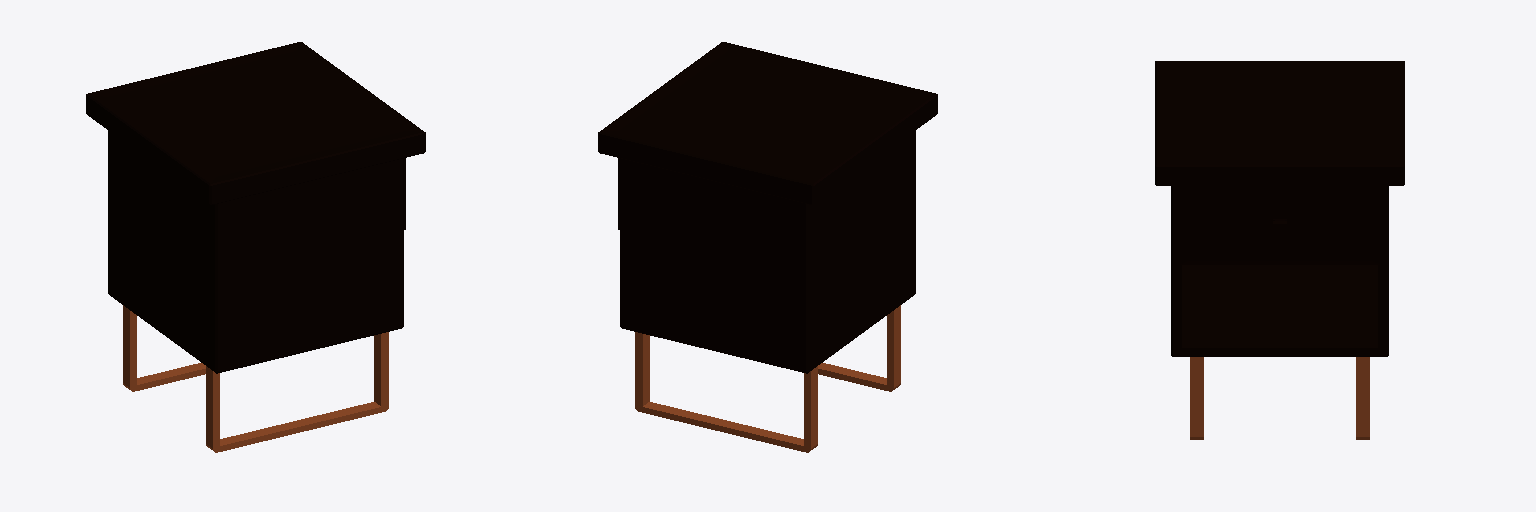
Rendered from SideTable.obj.
The picture shows the model from 3 angles: view 1: azimuth 30°, elevation 25°; view 2: azimuth 150°, elevation 25°; view 3: azimuth 270°, elevation 25°; orthographic projection.
Parts seen in each view (by area): view 1: Frame_Cube.007, Legs_Plane; view 2: Frame_Cube.007, Legs_Plane; view 3: Frame_Cube.007, Drawer_Cube.002, Legs_Plane.
Boxes of the visible parts, x1=… form: Frame_Cube.007: x1=86, y1=42, x2=425, y2=373; Legs_Plane: x1=123, y1=305, x2=388, y2=452; Frame_Cube.007: x1=598, y1=42, x2=937, y2=373; Legs_Plane: x1=635, y1=305, x2=900, y2=452; Frame_Cube.007: x1=1155, y1=61, x2=1404, y2=356; Drawer_Cube.002: x1=1178, y1=186, x2=1381, y2=264; Legs_Plane: x1=1190, y1=357, x2=1369, y2=439.
Size of the model in its own units: 2.29 by 2.89 by 2.29.